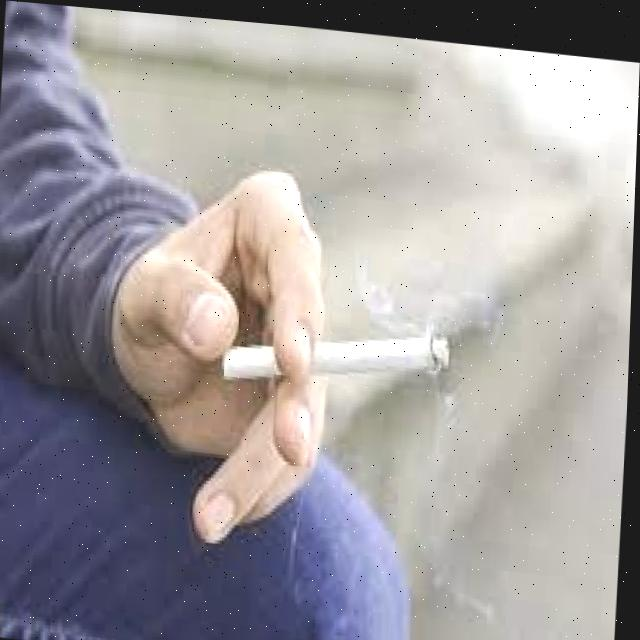cigarette: (312, 337, 449, 376), (221, 344, 283, 383)
